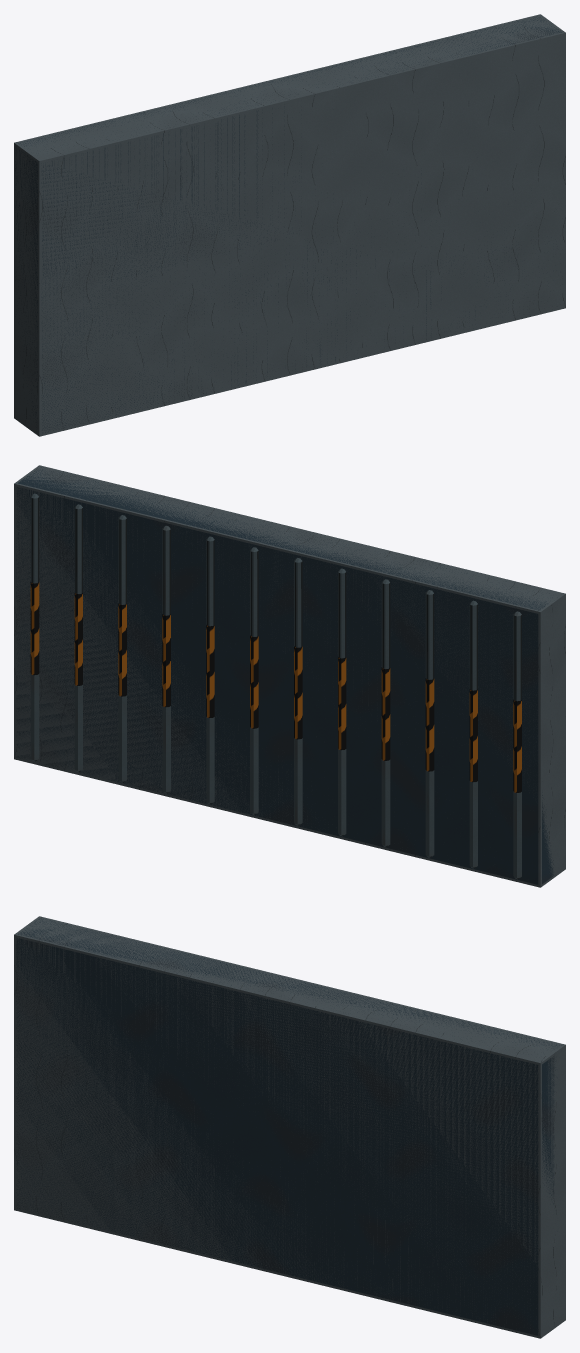
The model's file is Wall_ClosedDoor.fbx.
The picture shows the model from 3 angles, top to bottom: view 1: azimuth 30°, elevation 25°; view 2: azimuth 150°, elevation 25°; view 3: azimuth 330°, elevation 25°; orthographic projection.
Parts seen in each view (by area): view 1: COL_Foundry_Wall_ClosedDoor_00_Both, ENV_Foundry_Wall_ClosedDoor_LOD0; view 2: ENV_Foundry_Wall_ClosedDoor_LOD0, COL_Foundry_Wall_ClosedDoor_00_Both; view 3: ENV_Foundry_Wall_ClosedDoor_LOD0, COL_Foundry_Wall_ClosedDoor_00_Both.
Boxes of the visible parts, x1=… form: COL_Foundry_Wall_ClosedDoor_00_Both: x1=14, y1=14, x2=565, y2=436; ENV_Foundry_Wall_ClosedDoor_LOD0: x1=15, y1=16, x2=561, y2=433; ENV_Foundry_Wall_ClosedDoor_LOD0: x1=16, y1=467, x2=557, y2=884; COL_Foundry_Wall_ClosedDoor_00_Both: x1=14, y1=465, x2=565, y2=887; ENV_Foundry_Wall_ClosedDoor_LOD0: x1=16, y1=918, x2=561, y2=1335; COL_Foundry_Wall_ClosedDoor_00_Both: x1=14, y1=916, x2=565, y2=1338.
Size of what is drawn, in the model's own units: 6 by 3 by 0.56.
